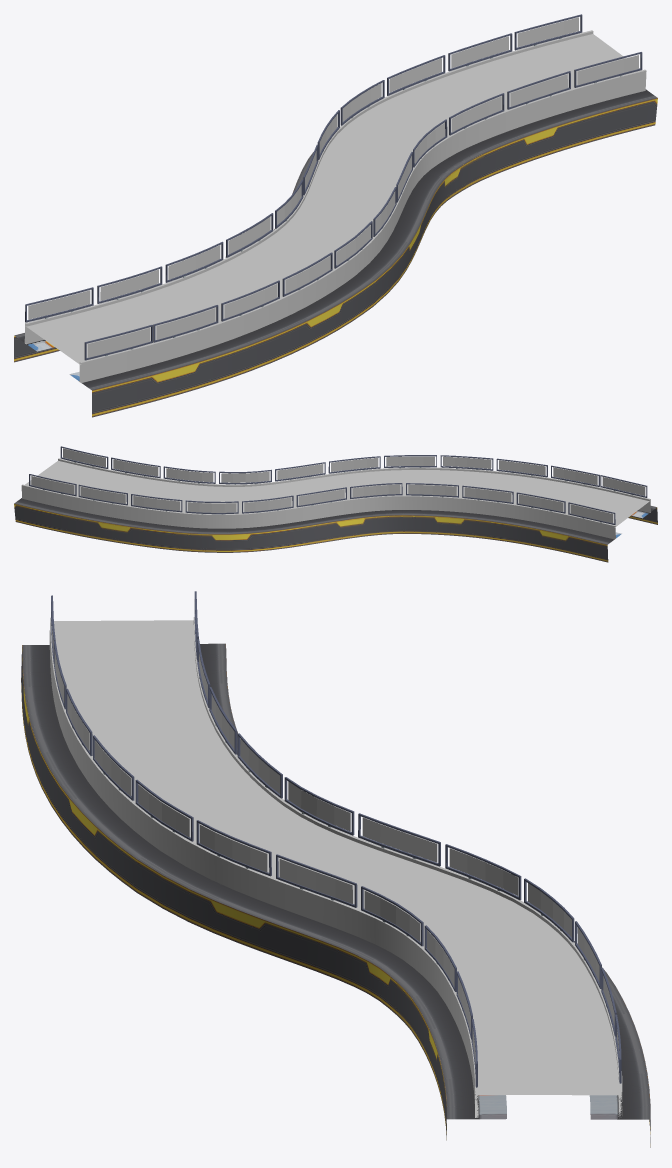
The model's file is mesh_1002_syq_sd005_6.FBX.
The picture shows the model from 3 angles, top to bottom: view 1: azimuth 30°, elevation 25°; view 2: azimuth 150°, elevation 25°; view 3: azimuth 270°, elevation 25°; orthographic projection. The views are drawn at different scales.
Parts seen in each view (by area): view 1: mesh_1002_syq_sd005_6, mesh_1002_syq_sd005_6c, mesh_1002_syq_sd005_6b, mesh_1002_syq_sd005_6a; view 2: mesh_1002_syq_sd005_6, mesh_1002_syq_sd005_6c, mesh_1002_syq_sd005_6b, mesh_1002_syq_sd005_6a; view 3: mesh_1002_syq_sd005_6, mesh_1002_syq_sd005_6c, mesh_1002_syq_sd005_6b, mesh_1002_syq_sd005_6a.
Boxes of the visible parts, box(x1,y1,x2,y2) form: mesh_1002_syq_sd005_6: box(24, 30, 646, 382); mesh_1002_syq_sd005_6c: box(14, 89, 657, 417); mesh_1002_syq_sd005_6b: box(28, 17, 638, 357); mesh_1002_syq_sd005_6a: box(25, 14, 642, 360); mesh_1002_syq_sd005_6: box(21, 458, 650, 539); mesh_1002_syq_sd005_6c: box(14, 498, 657, 562); mesh_1002_syq_sd005_6b: box(31, 448, 645, 523); mesh_1002_syq_sd005_6a: box(29, 446, 647, 524); mesh_1002_syq_sd005_6: box(49, 617, 622, 1117); mesh_1002_syq_sd005_6c: box(21, 643, 650, 1147); mesh_1002_syq_sd005_6b: box(51, 621, 619, 1063); mesh_1002_syq_sd005_6a: box(51, 591, 621, 1087).
Bounding box in the file's own units: 4508 × 389 × 2520.
